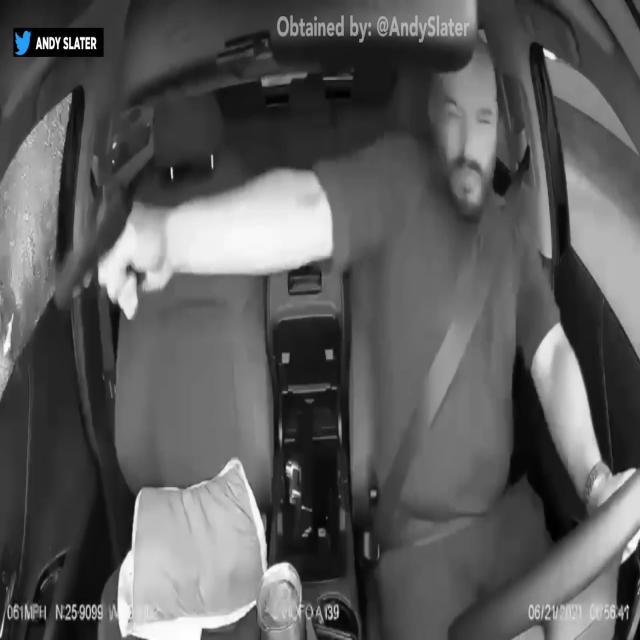senjata_api: (54, 177, 148, 318)
